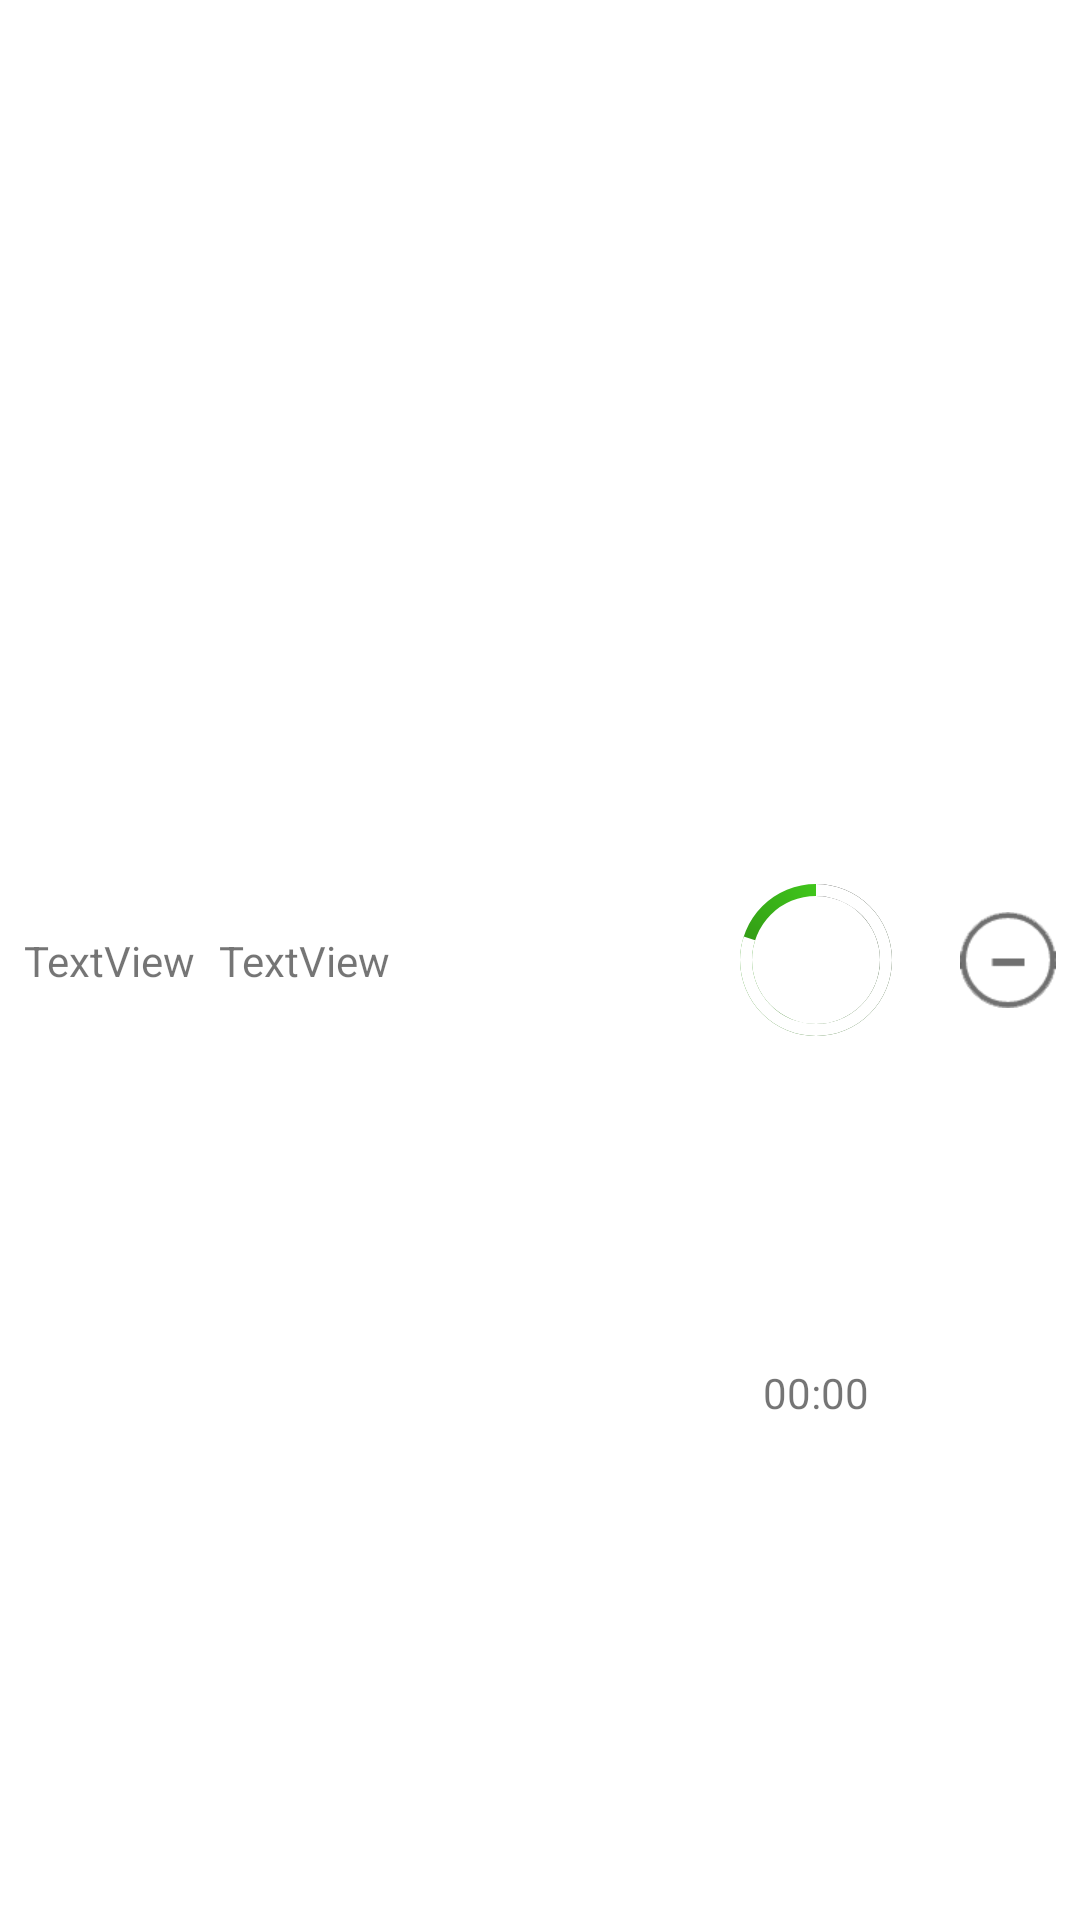

Named icons in this screenshot (1080 x 1920) and their bounding boxes, region(x1, y1, x2, y2):
remove single product: region(960, 912, 1056, 1008)
